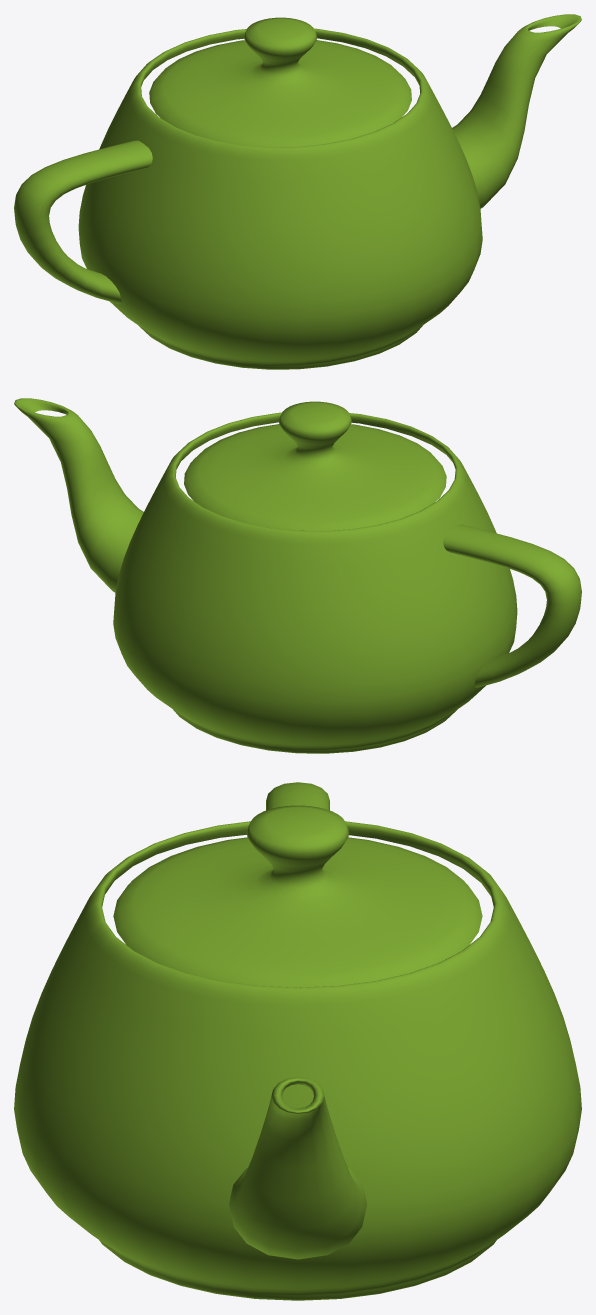
The model's file is teapot.glb.
3 views of the same model, one above another, from view 1: azimuth 30°, elevation 25°; view 2: azimuth 150°, elevation 25°; view 3: azimuth 270°, elevation 25° (orthographic). The views are drawn at different scales.
Parts seen in each view (by area): view 1: Teapot001; view 2: Teapot001; view 3: Teapot001.
Part boxes in pixels (bbox=[...]): Teapot001: bbox=[14, 14, 581, 369]; Teapot001: bbox=[14, 398, 581, 753]; Teapot001: bbox=[14, 782, 581, 1300].
Bounding box in the file's own units: 1.61 × 0.7875 × 1.
